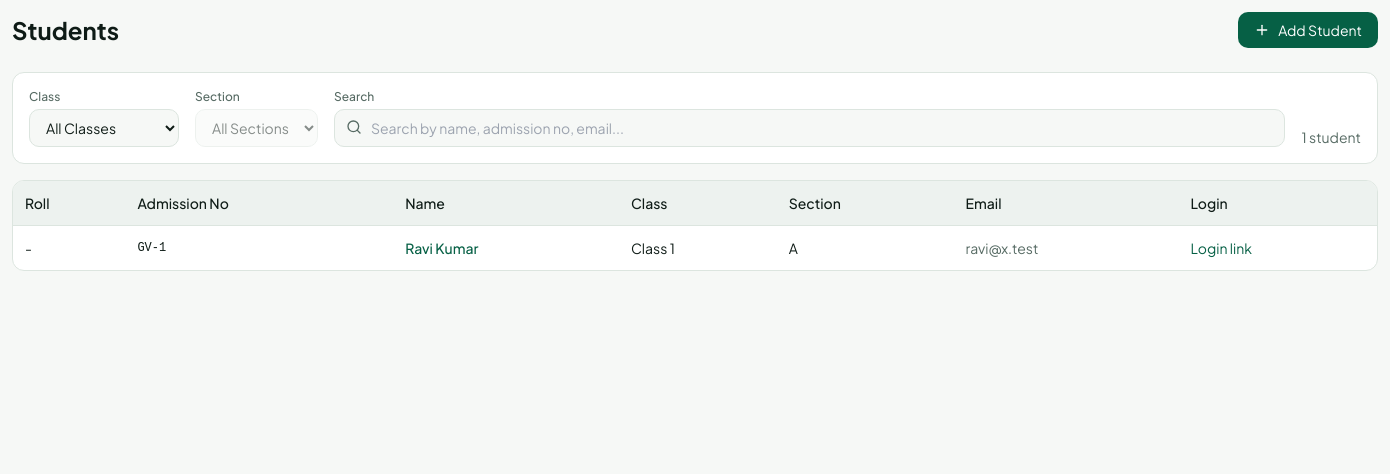
Test: student login links › the school gets a link for a listed student
This screenshot has width=1390, height=474.
Click the button "Login link". click: (1221, 248)
box: [1190,238,1252,258]
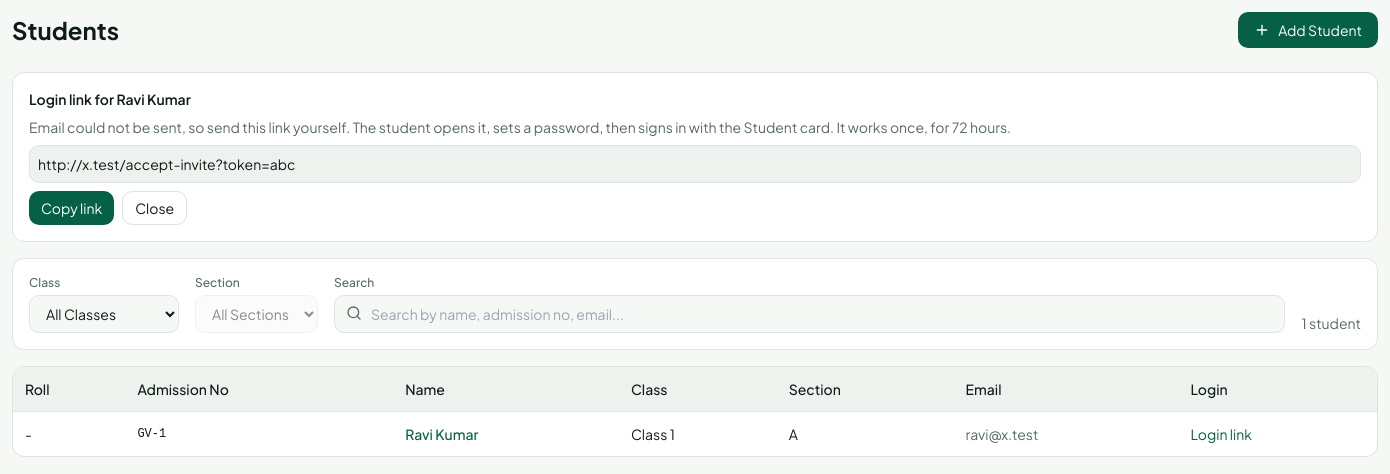
expect the text "http://x.test/accept-invite?token=abc" is shown: met, box [29,145,1361,183]
